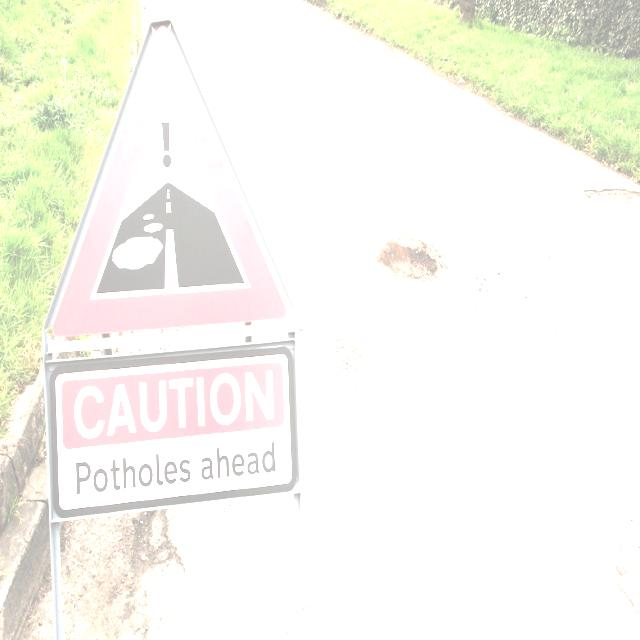Pothole: (359, 217, 460, 301)
